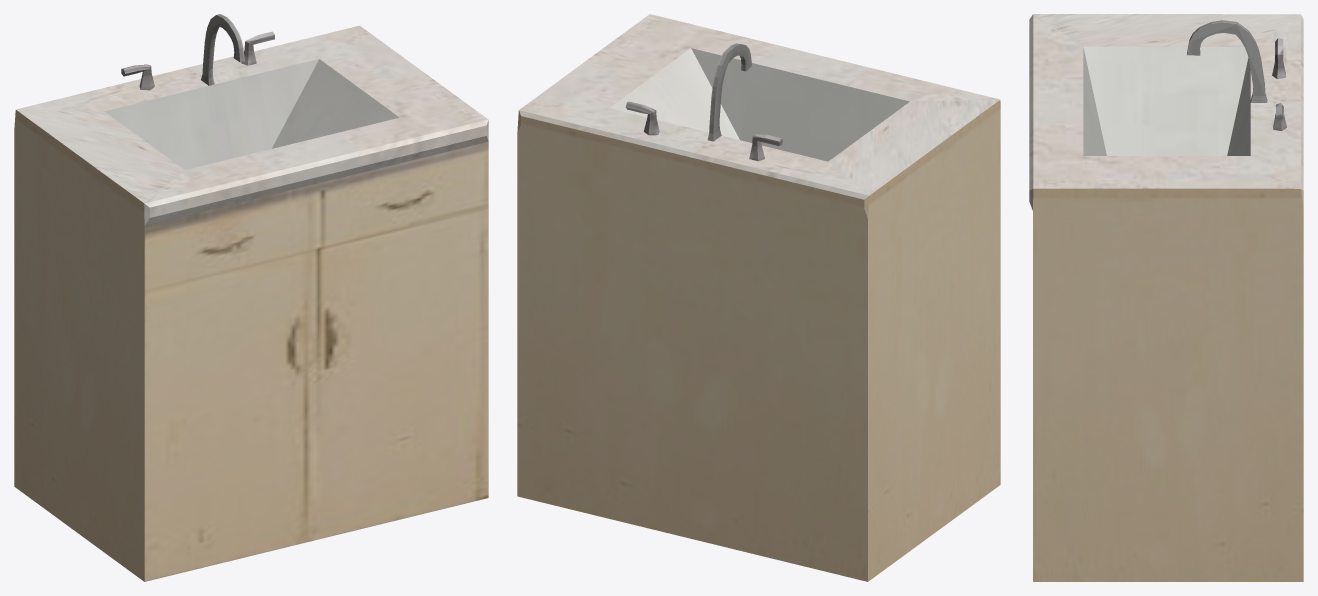
Rendered from Kitchen_Sink.fbx_Scene.fbx.
3 renders of one model, left to right at view 1: azimuth 30°, elevation 25°; view 2: azimuth 150°, elevation 25°; view 3: azimuth 270°, elevation 25°, orthographic. The views are drawn at different scales.
Visible parts, largest first — view 1: Sink; view 2: Sink; view 3: Sink, Handle 1.002.
Part boxes in pixels (bbox=[...]): Sink: bbox=[14, 14, 488, 581]; Sink: bbox=[517, 14, 1000, 581]; Sink: bbox=[1029, 14, 1303, 581]; Handle 1.002: bbox=[1272, 38, 1285, 78].
Bounding box in the file's own units: 92.93 × 117 × 61.76.
